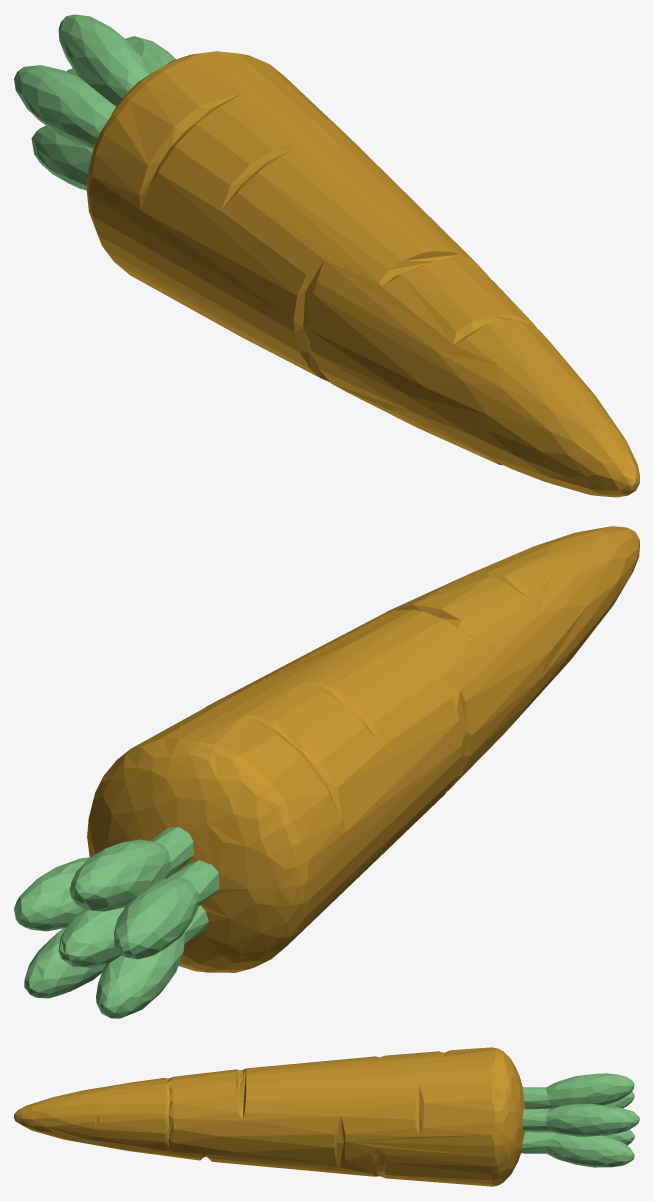
Rendered from goldenCarrot.glb.
3 renders of one model, top to bottom at view 1: azimuth 30°, elevation 25°; view 2: azimuth 150°, elevation 25°; view 3: azimuth 270°, elevation 25°, orthographic. The views are drawn at different scales.
Visible parts, largest first — view 1: Mesh_Mesh_head_geo001_lambert2SG001; view 2: Mesh_Mesh_head_geo001_lambert2SG001; view 3: Mesh_Mesh_head_geo001_lambert2SG001.
Part boxes in pixels (x1,y1,x2,y2): Mesh_Mesh_head_geo001_lambert2SG001: [14, 14, 639, 497]; Mesh_Mesh_head_geo001_lambert2SG001: [14, 526, 639, 1018]; Mesh_Mesh_head_geo001_lambert2SG001: [14, 1047, 639, 1186].
Bounding box in the file's own units: 26.9 × 26.95 × 121.
